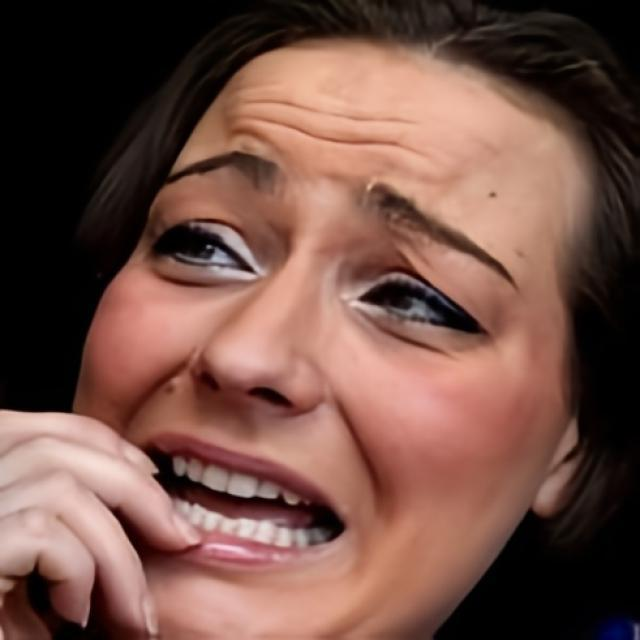fear: (74, 39, 600, 640)
